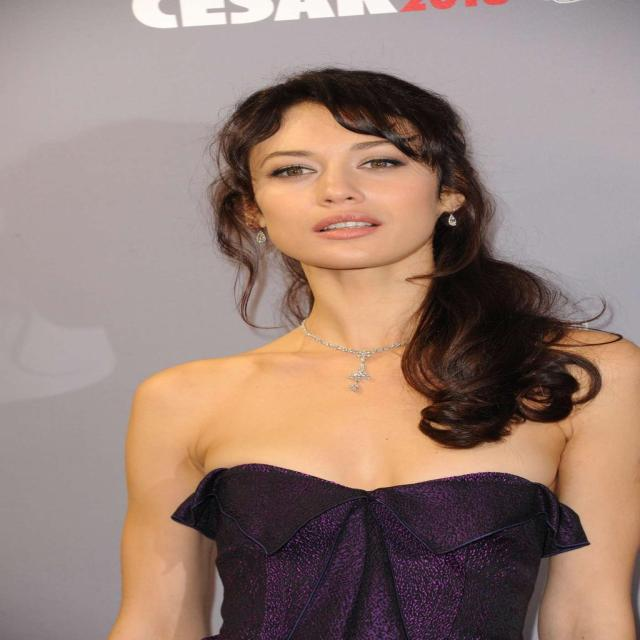Face: (239, 109, 470, 273)
